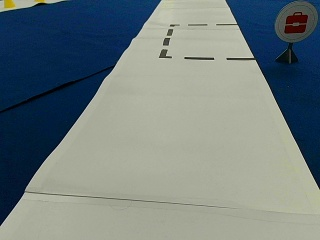company: (275, 2, 317, 41)
